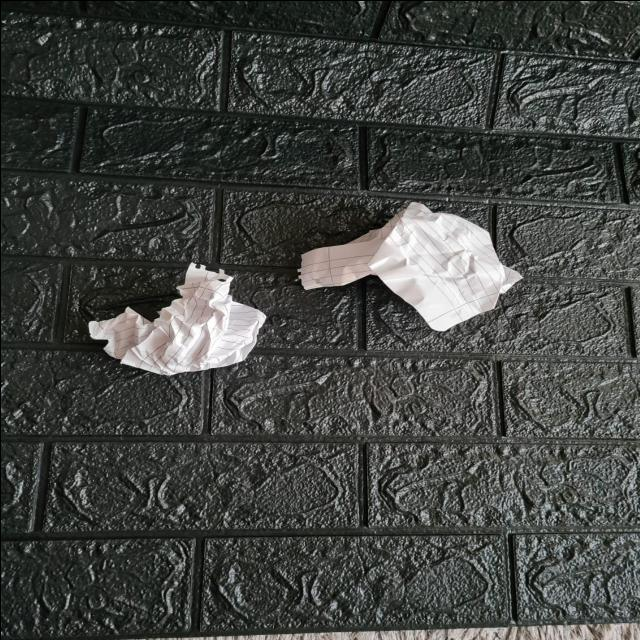kertas: (296, 208, 529, 318), (87, 265, 267, 374)
